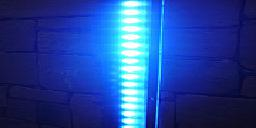LED: (117, 2, 155, 128)
